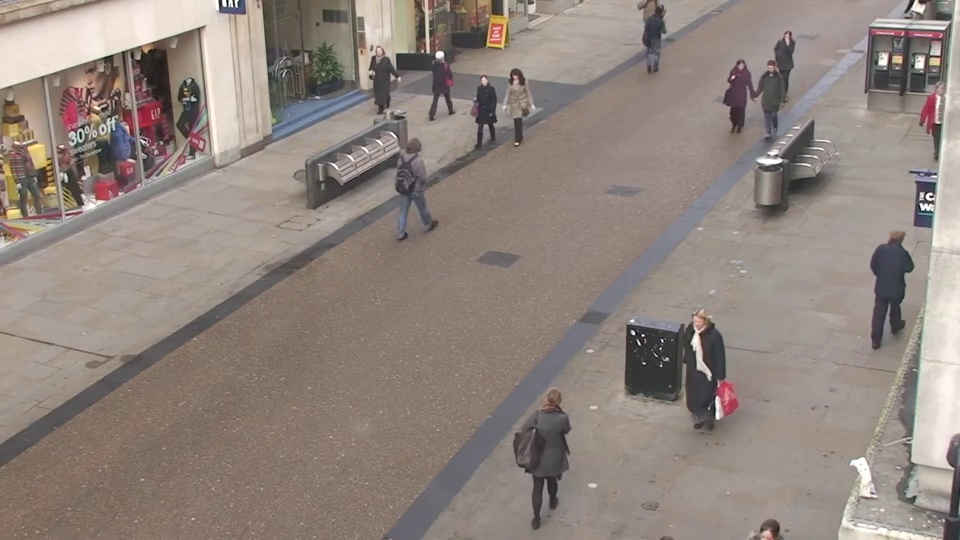pedestrian: (531, 374, 582, 535), (665, 309, 715, 455), (872, 217, 925, 342), (406, 132, 441, 232), (752, 60, 782, 142), (466, 72, 495, 156), (723, 60, 752, 142), (500, 70, 528, 153), (769, 31, 798, 106), (362, 45, 390, 120), (433, 42, 460, 117), (648, 3, 671, 68)
